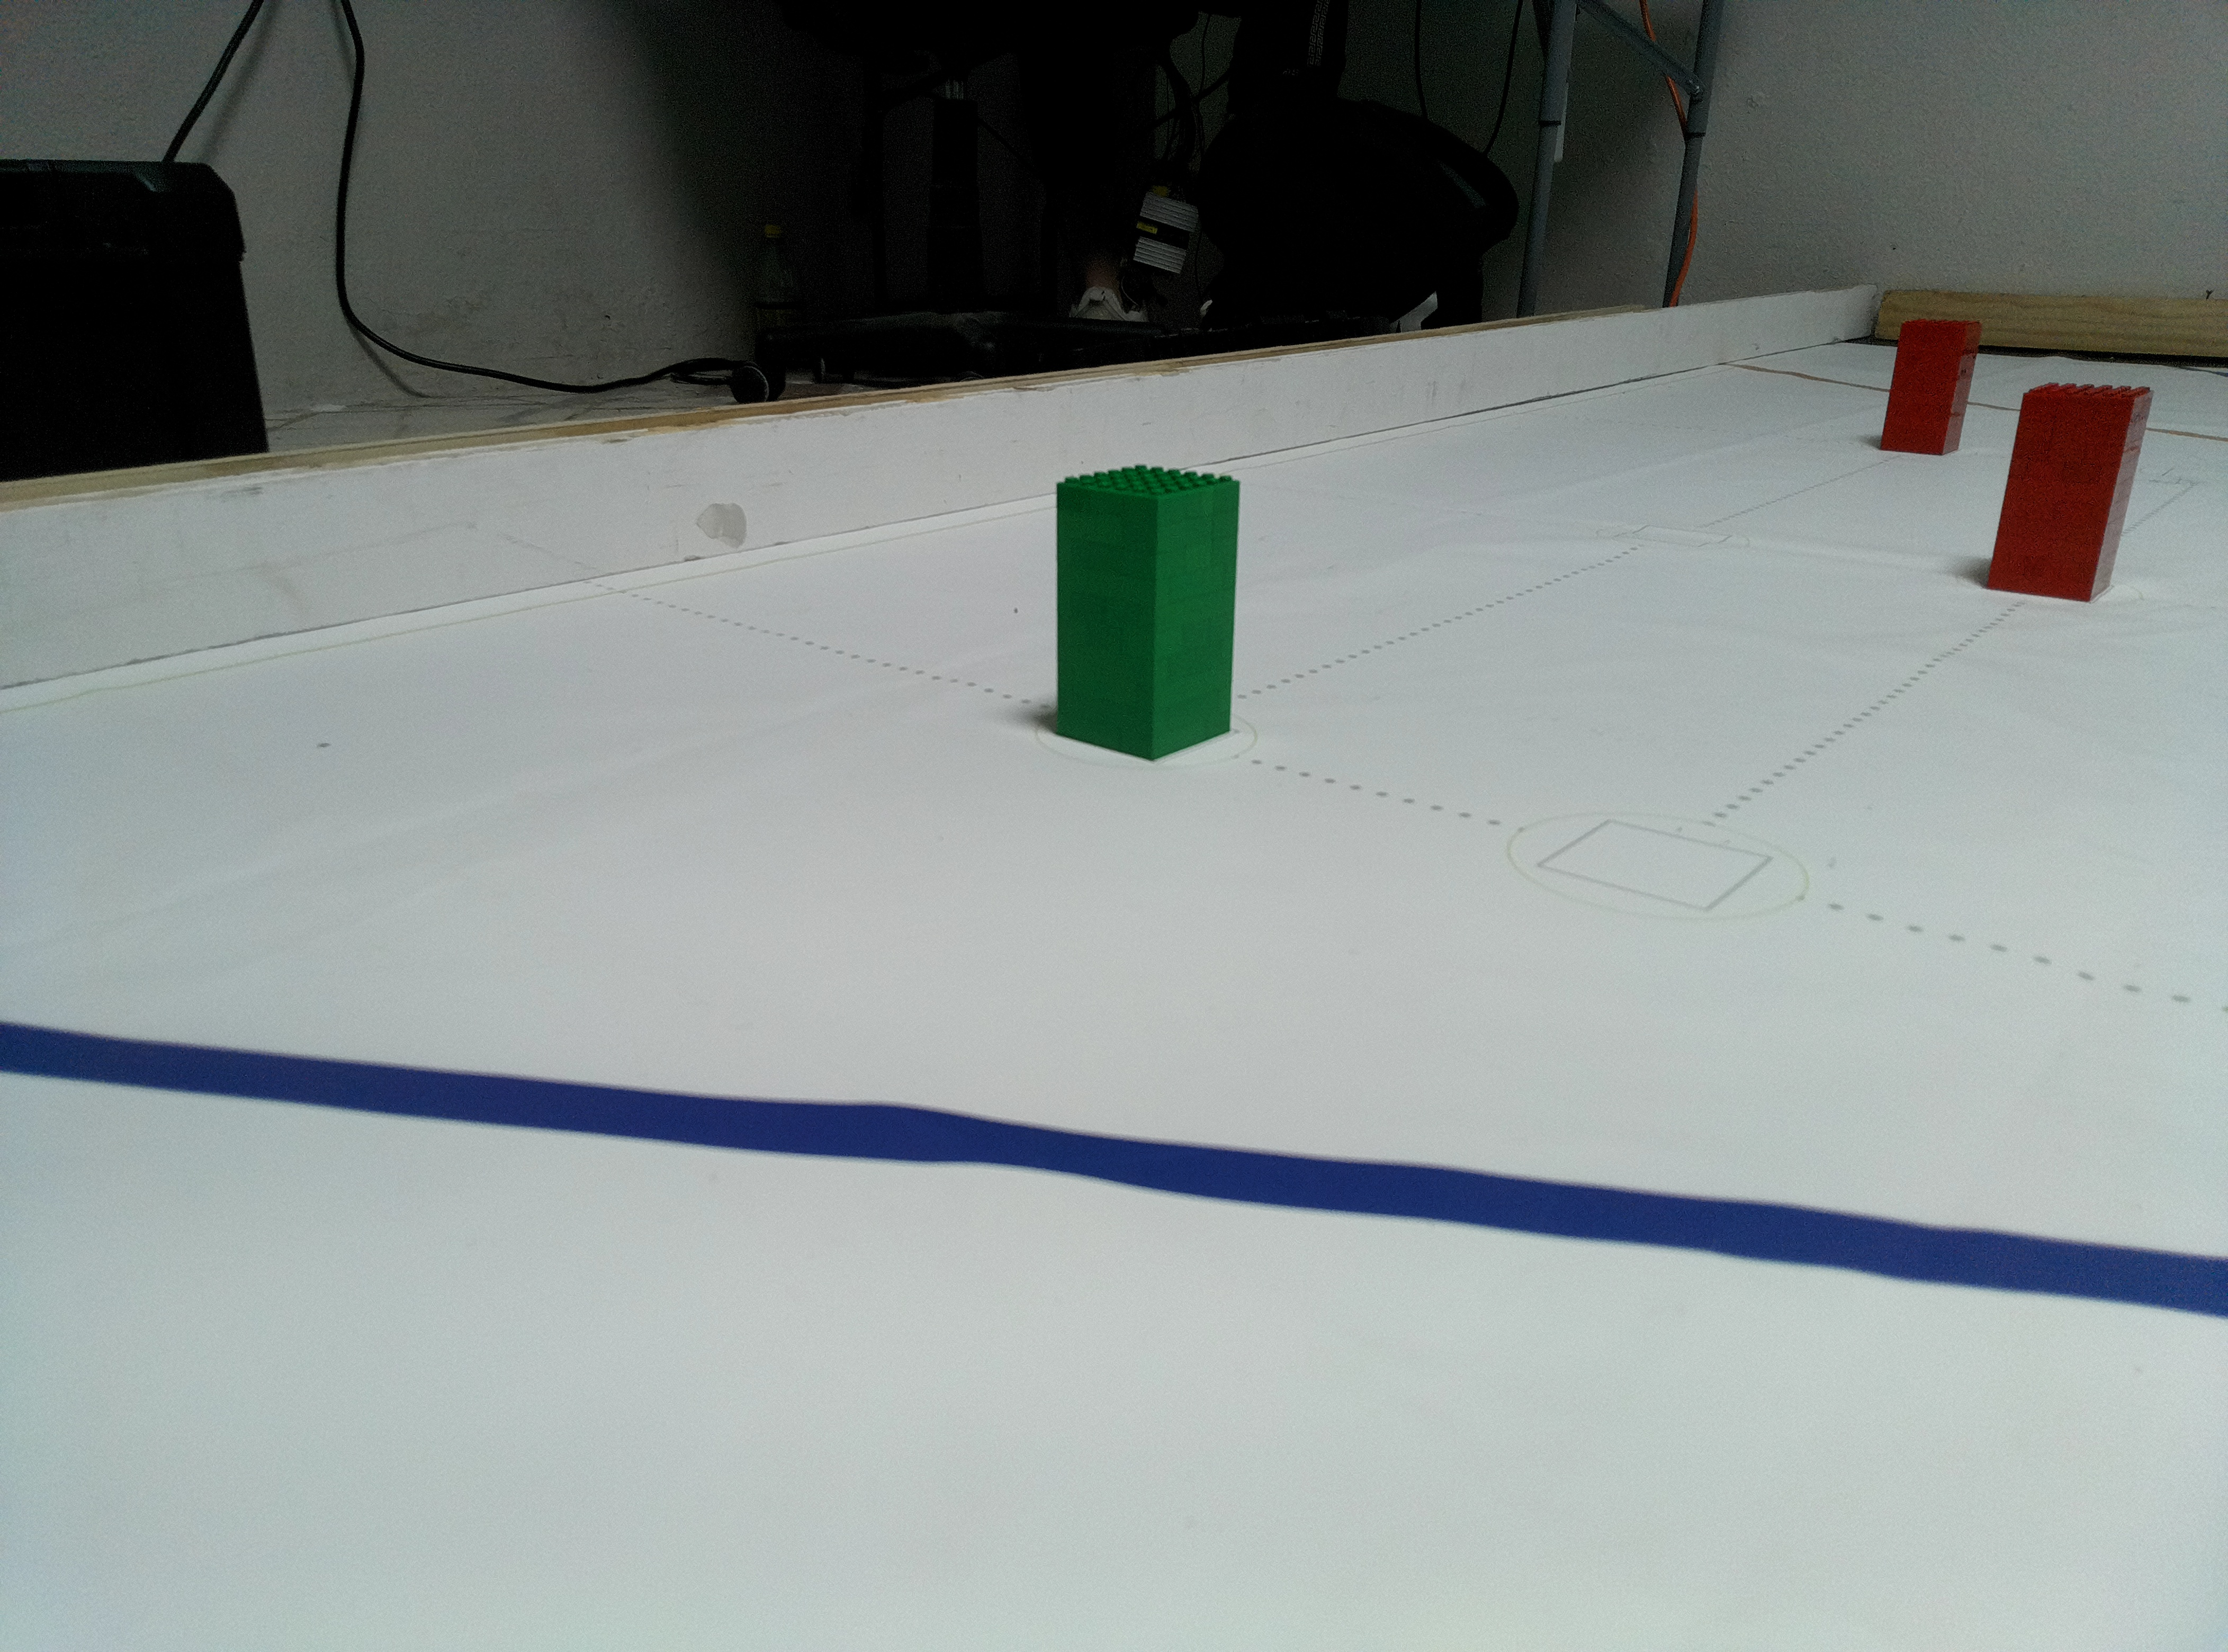greenbox: (1052, 458, 1244, 764)
redbox: (1985, 380, 2153, 604), (1877, 314, 1982, 456)
